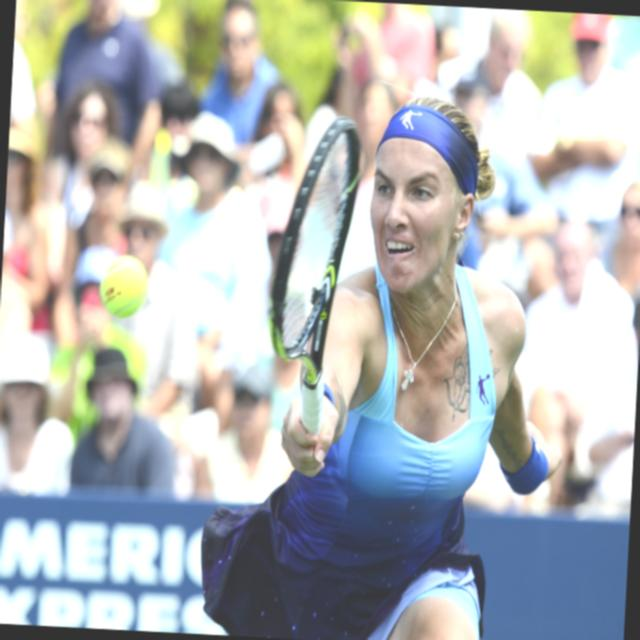Tennis ball: (98, 254, 148, 320)
